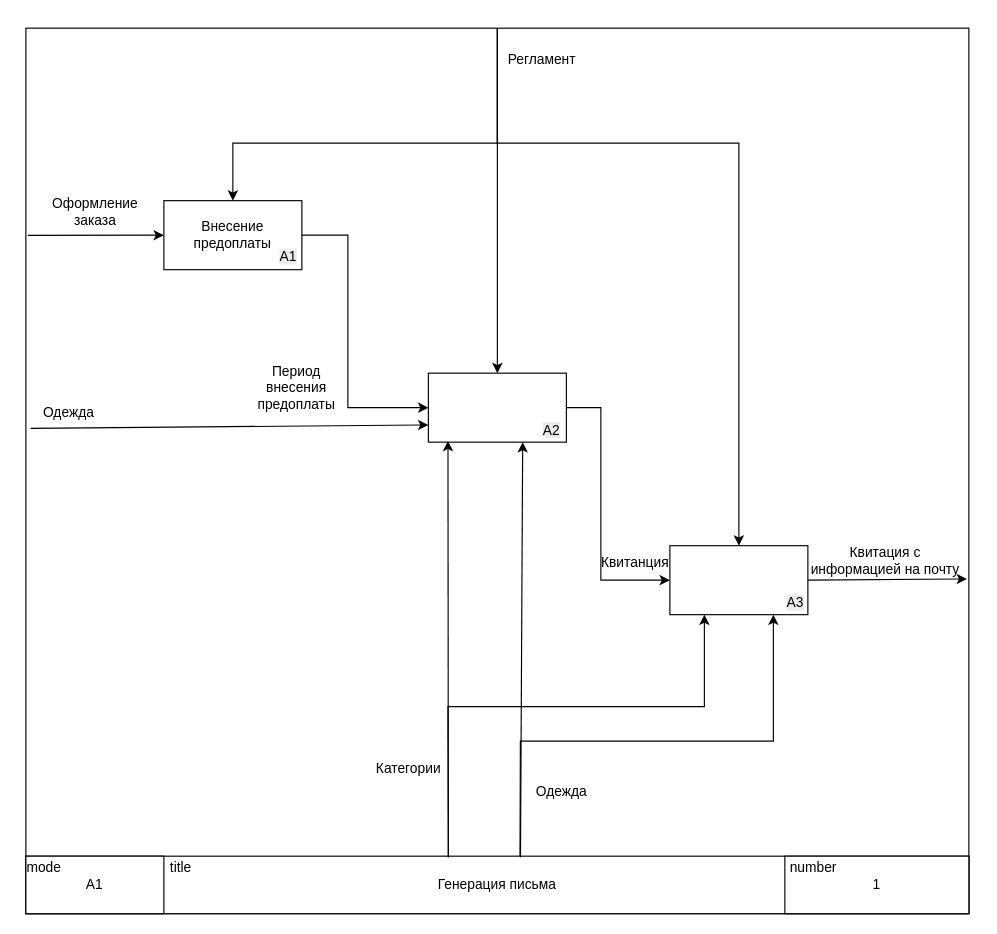
Image size: 997x934. Some labels were removed from this diagram. Here are the shapes that lost their labels. From the top down, the box of each, then its label:
(427, 372, 566, 442): Проверка транзакции
(669, 545, 808, 615): Отправка на почту
